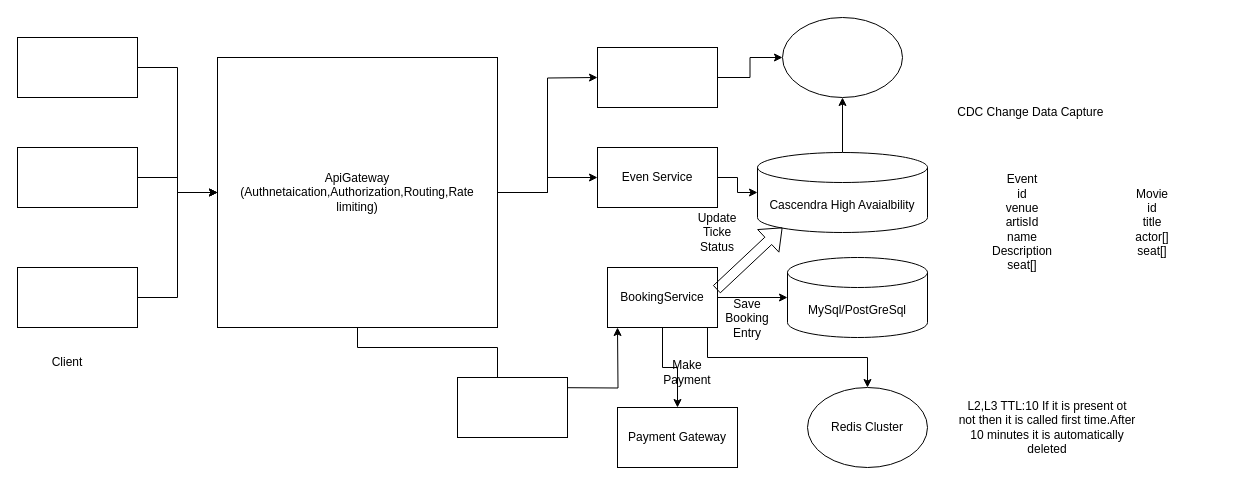
Some shapes in this 1255 by 495 pixel diagram are drawn without their labels. The centre of each missing label's shape, as x and y in pixels:
"Elastic Serach" belongs at [842,57].
"Kafka Waiting Queue" belongs at [512,407].
"SearchService" belongs at [657,77].
